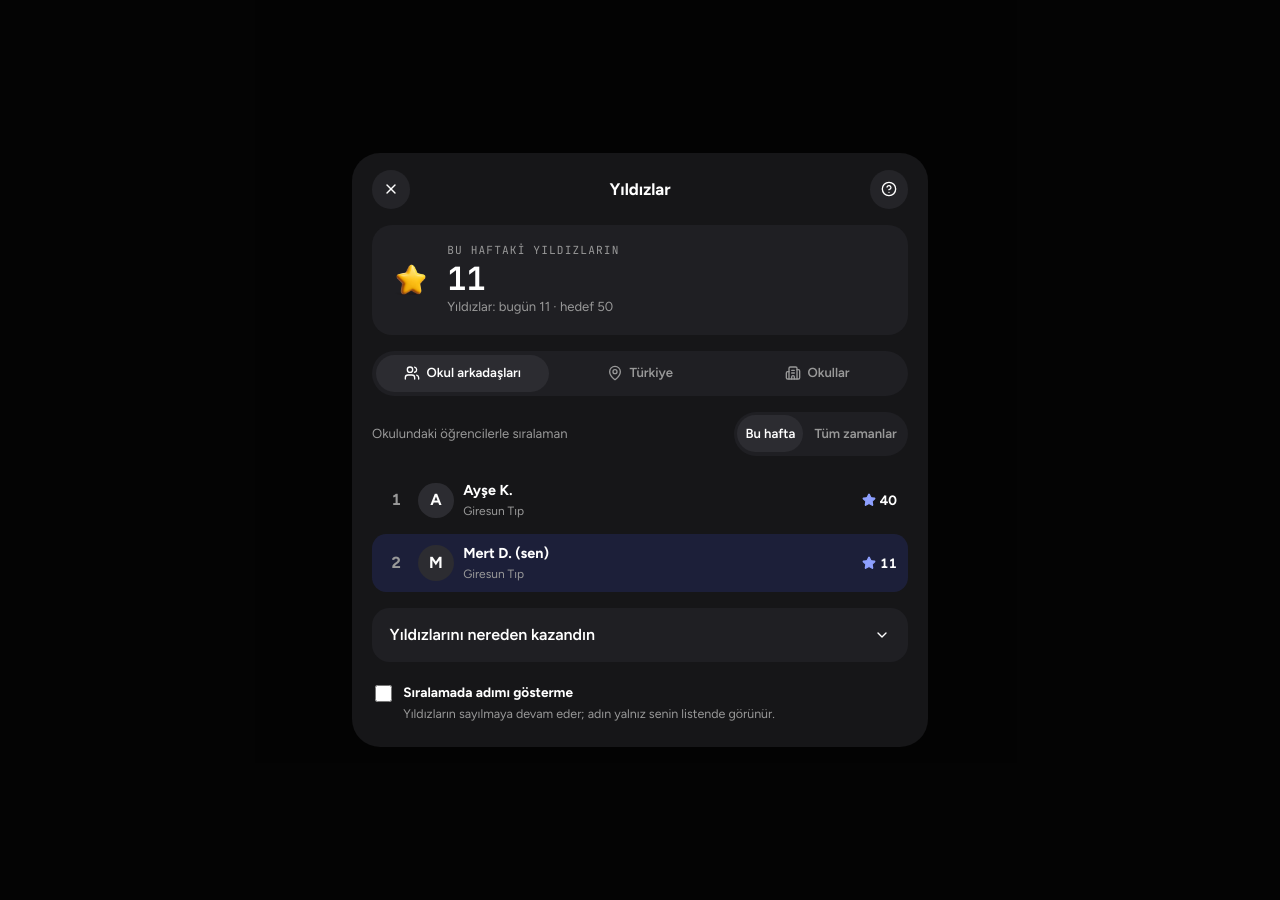
Test: Yıldızlar penceresi › bu haftanın yıldızları, sıralama, kaynaklar ve kurallar
Check: the text "Ayşe K." is shown, box [463,481,513,499]
Check: the text "Mert D. (sen)" is shown, box [463,544,549,562]
Click the tab "Türkiye": coordinates (640, 373) [553,355,727,392]
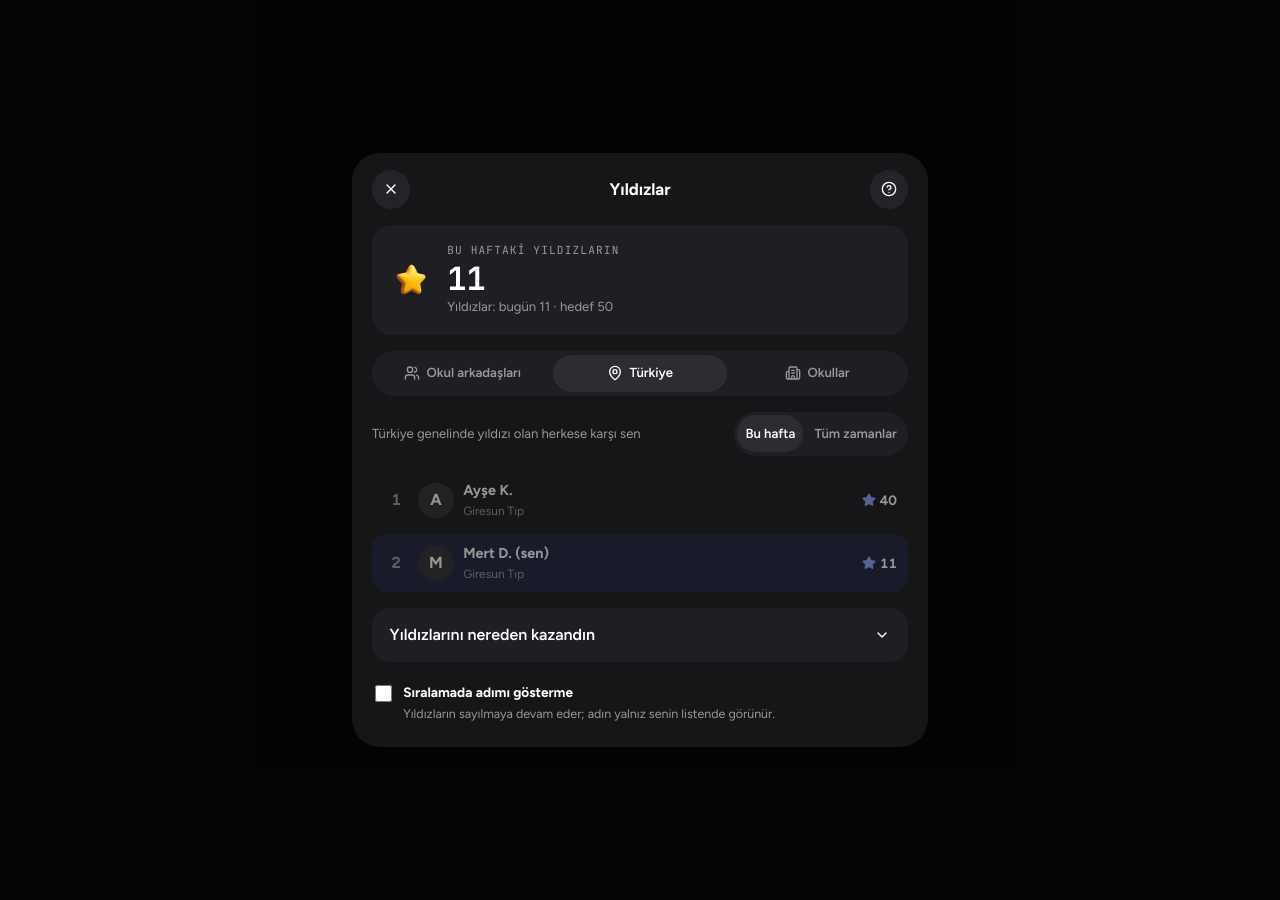
Click the button "Yıldızlarını nereden kazandın": coordinates (492, 634) [372,608,908,662]
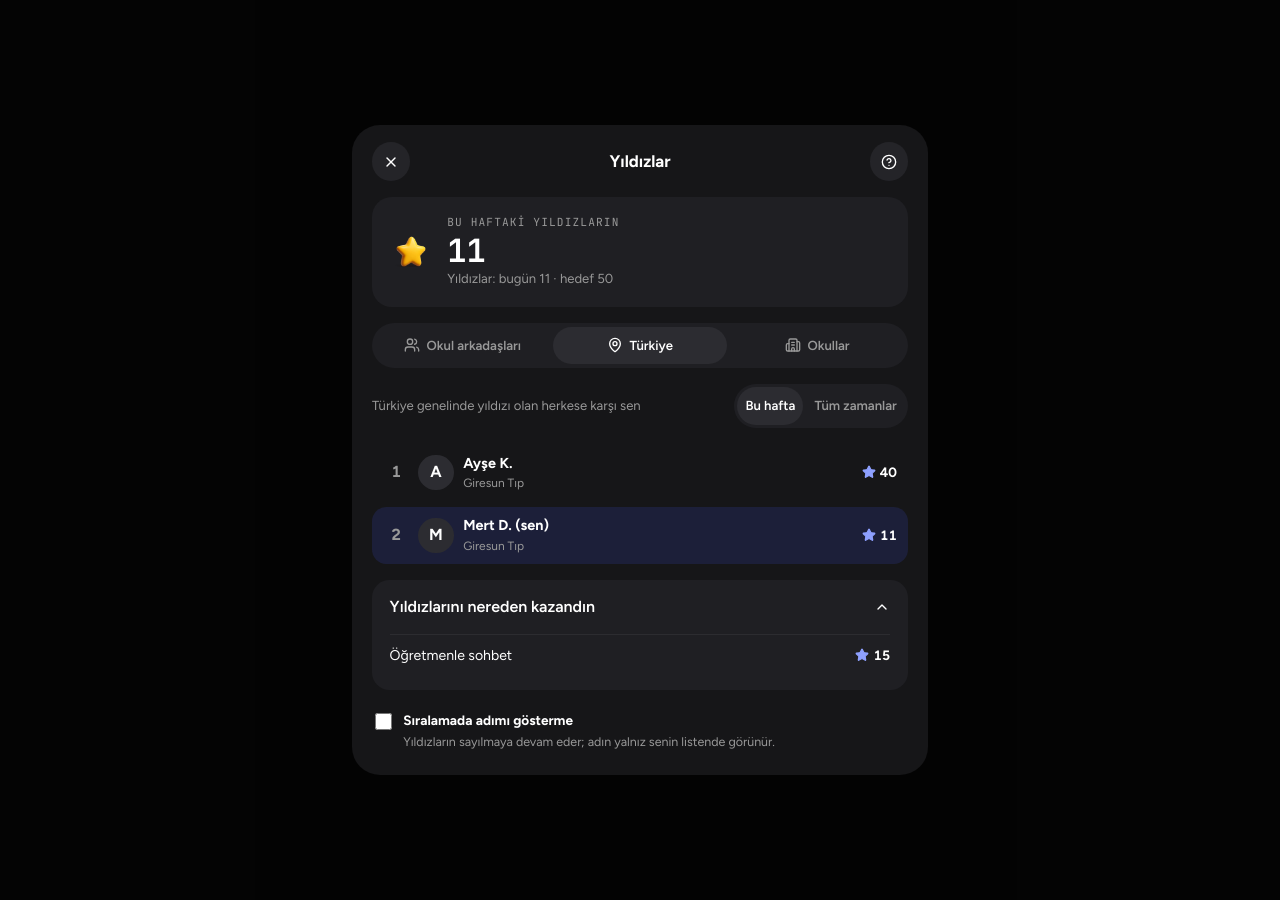
Check: the text "Öğretmenle sohbet" is shown, box [390,645,512,666]
Click the button named "Nasıl yıldız kazanılır": coordinates (889, 162) [870,142,908,181]
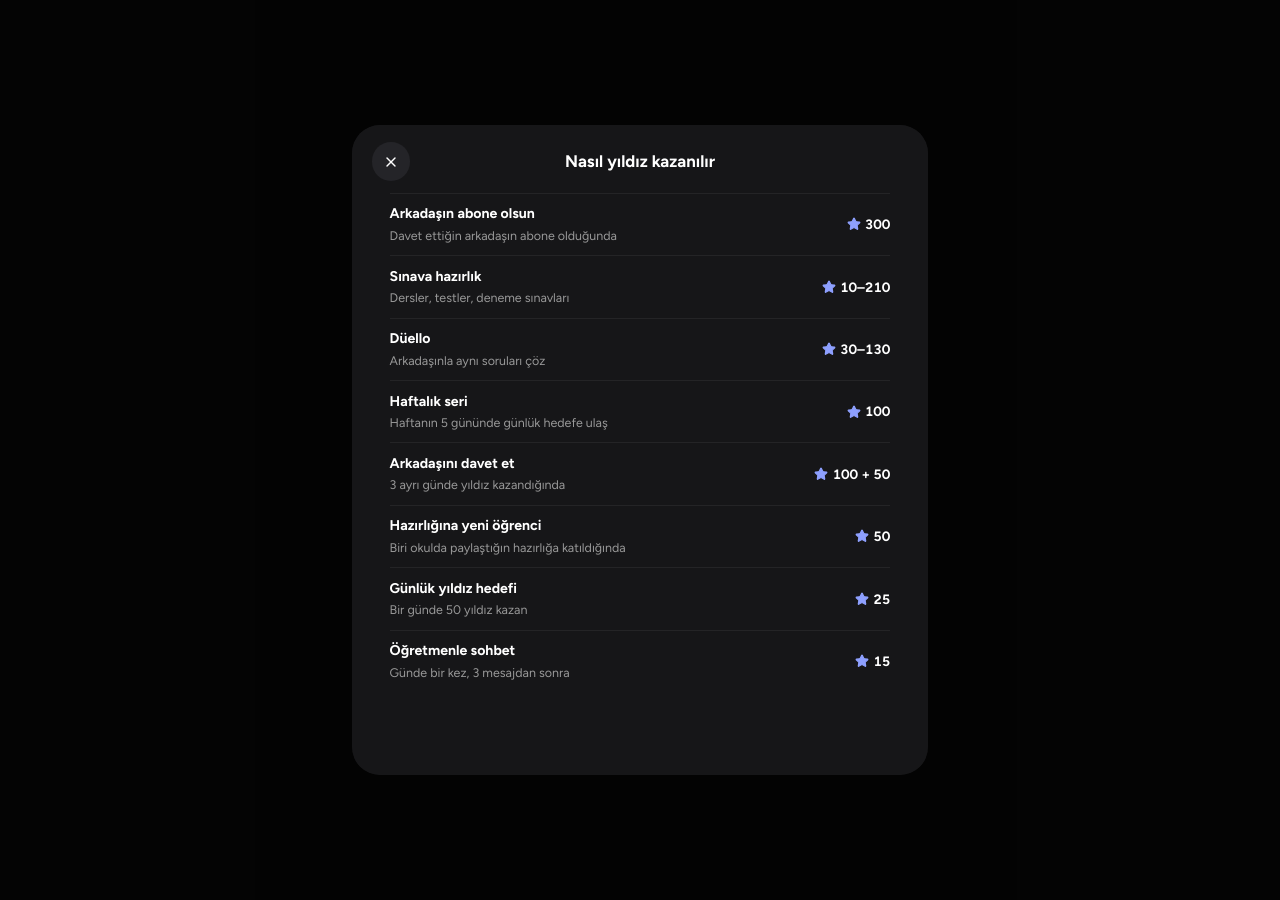
Check: the text "Arkadaşın abone olsun" is shown, box [390,205,535,222]
Check: the text "Günde bir kez, 3 mesajdan sonra" is shown, box [390,664,570,682]
